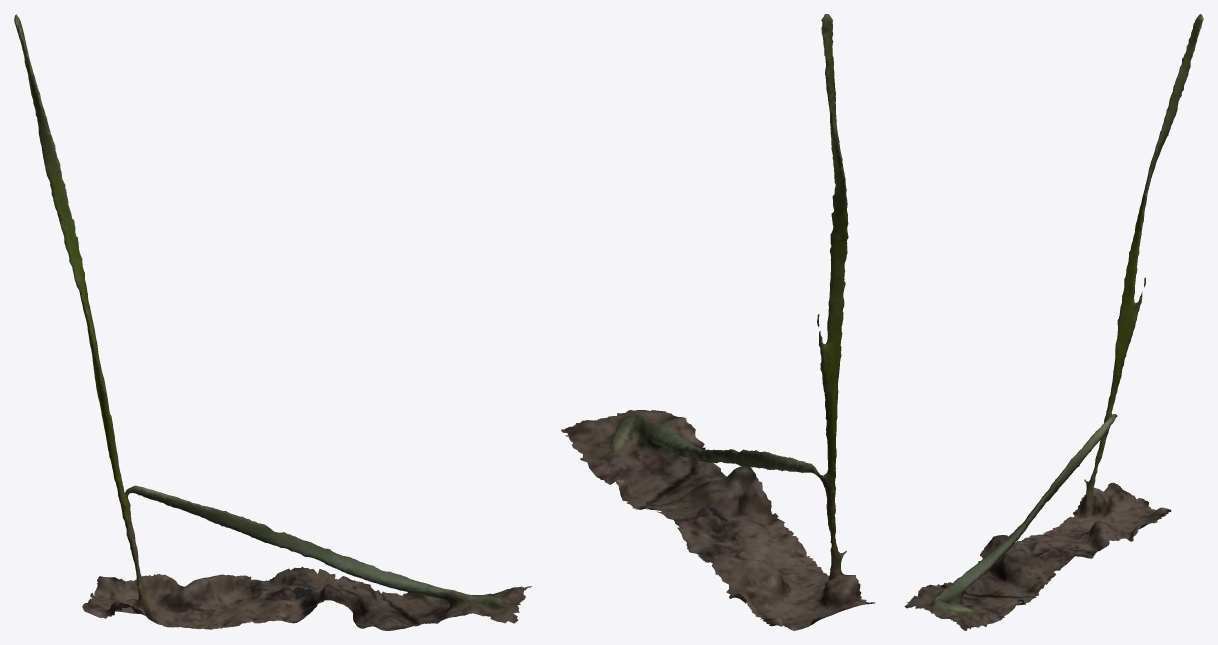
Rendered from Day10.glb.
The picture shows the model from 3 angles, left to right: view 1: azimuth 30°, elevation 25°; view 2: azimuth 150°, elevation 25°; view 3: azimuth 270°, elevation 25°; orthographic projection. The views are drawn at different scales.
Parts seen in each view (by area): view 1: Day10; view 2: Day10; view 3: Day10.
Part boxes in pixels (box(x1,y1,x2,y2)): Day10: box(14, 14, 531, 630); Day10: box(561, 14, 875, 630); Day10: box(904, 14, 1203, 630).
Size of the model in its own units: 0.5238 by 0.7666 by 0.4332.
Materials: 43 (43 with a texture image).
